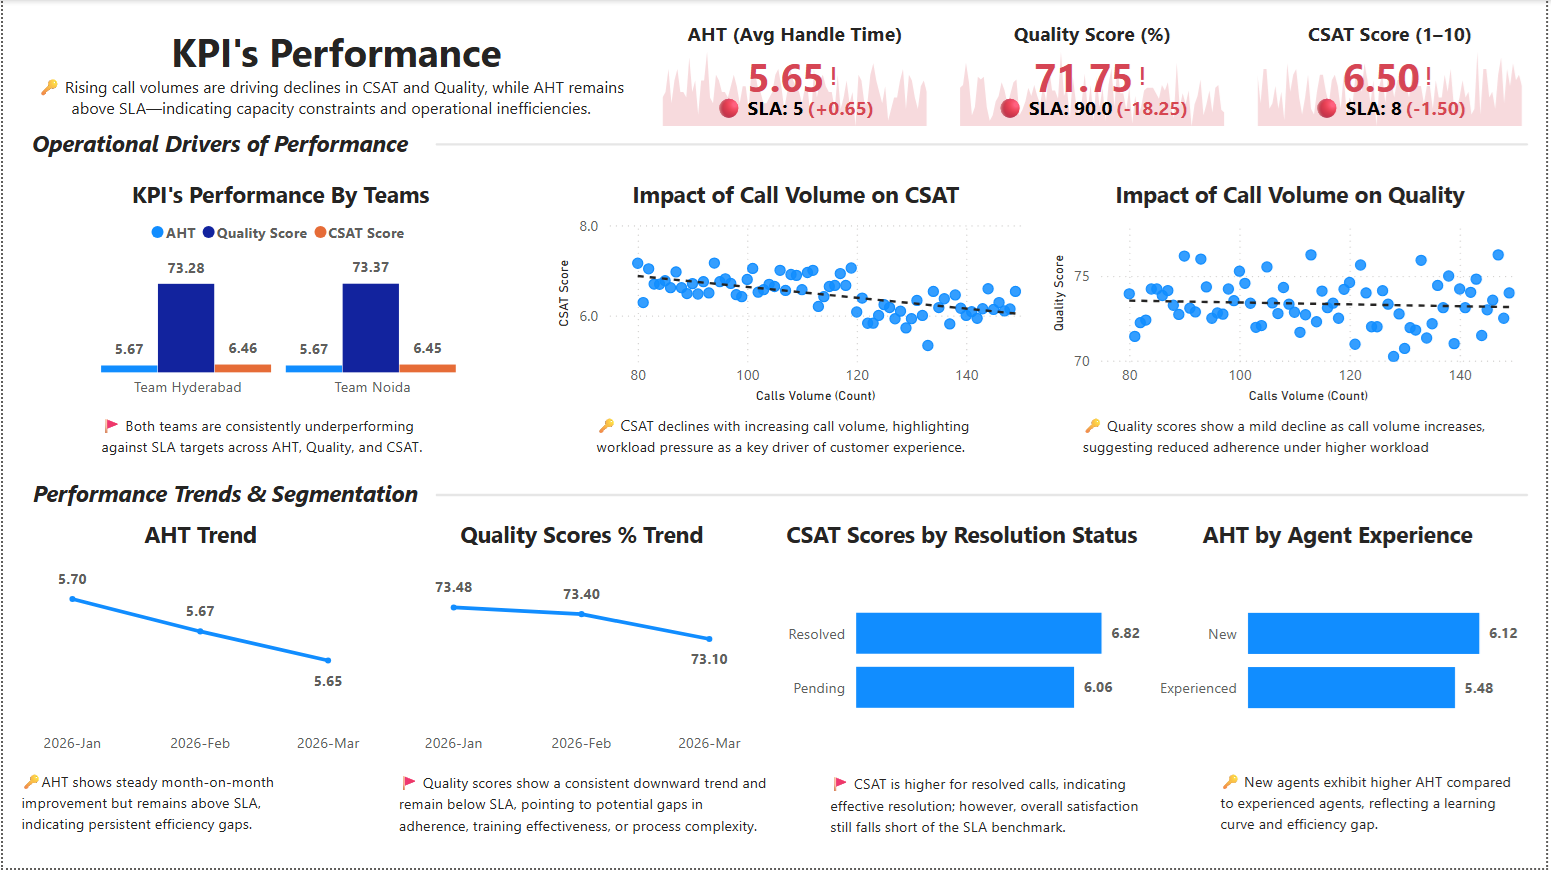

Layout of this report page (visuals, bound fields, positions):
{"tool":"powerbi","page":{"name":"KPI's Performance","canvas":[1280,720],"ordinal":1},"visuals":[{"type":"textbox","box":[10.4,16.6,531.9,58.1],"z":0},{"type":"clusteredColumnChart","title":"KPI''s Performance By Teams","fields":{"Category":["Process_Data.Team"],"Y":["_Measures.Avg AHT","_Measures.Quality Score","_Measures.Avg CSAT"]},"box":[10.4,148.3,439.6,190.8],"z":1000},{"type":"textbox","box":[76.7,338,309,52.9],"z":2000},{"type":"lineChart","title":"AHT Trend","fields":{"Y":["_Measures.Avg AHT"],"Category":["Dim_Date.Year-Month"]},"box":[10.4,430.3,306.9,204.3],"z":3000},{"type":"lineChart","title":"Quality Scores % Trend","fields":{"Category":["Dim_Date.Year-Month"],"Y":["_Measures.Quality Score"]},"box":[326.3,430.3,306.9,204.3],"z":4000},{"type":"textbox","box":[10.4,633.5,250.9,68.4],"z":5000},{"type":"textbox","box":[323.3,634.9,318.6,66.3],"z":6000},{"type":"textbox","box":[681.2,635.6,276.8,65.3],"z":7000},{"type":"kpi","title":"Quality Score (%)","fields":{"TrendLine":["Dim_Date.Date"],"Goal":["_Measures.SLA_Quality"],"Indicator":["_Measures.Quality Score"]},"box":[789.1,16.6,229.2,93.3],"z":8000},{"type":"kpi","title":"CSAT Score (1–10)","fields":{"TrendLine":["Dim_Date.Date"],"Indicator":["_Measures.Avg CSAT"],"Goal":["_Measures.SLA_CSAT"]},"box":[1035.8,16.3,229.3,93.1],"z":9000},{"type":"kpi","title":"AHT (Avg Handle Time)","fields":{"TrendLine":["Dim_Date.Date"],"Indicator":["_Measures.Avg AHT"],"Goal":["_Measures.SLA_AHT"]},"box":[542.3,16.6,229.2,93.3],"z":10000},{"type":"scatterChart","title":"Impact of Call Volume on CSAT","fields":{"Y":["_Measures.Avg CSAT"],"X":["Process_Data.Call_Volume"]},"box":[455.7,148.3,404.4,190.8],"z":11000},{"type":"clusteredBarChart","title":"CSAT Scores by Resolution Status","fields":{"Y":["_Measures.Avg CSAT"],"Category":["Process_Data.Resolution_Status"]},"box":[642.2,430.3,306.9,204.3],"z":12000},{"type":"scatterChart","title":"Impact of Call Volume on Quality","fields":{"X":["Process_Data.Call_Volume"],"Y":["_Measures.Quality Score"]},"box":[865.8,148.3,403.3,190.8],"z":13000},{"type":"textbox","box":[487.3,338,352.5,52.9],"z":14000},{"type":"textbox","box":[890.7,338.1,378.3,52.4],"z":15000},{"type":"clusteredBarChart","title":"AHT by Agent Experience","fields":{"Y":["_Measures.Avg AHT"],"Category":["Process_Data.Agent_Type"]},"box":[948.8,430.2,316.3,204.7],"z":16000},{"type":"textbox","box":[10.4,58.1,523.6,51.8],"z":17000},{"type":"textbox","box":[1004.7,633.7,260.5,68.6],"z":18000},{"type":"shape","box":[358.8,109.9,906.2,19.7],"z":19000},{"type":"textbox","box":[10.4,101.6,339.1,37.3],"z":20000},{"type":"shape","box":[358.8,401.3,906.2,18.7],"z":21000},{"type":"textbox","box":[10.4,391.9,348.4,37.3],"z":22000}]}

Visuals, with their boxes in screenshot pixels (x1, y1, x2, y2), scaled from the page's 1280x720 canvas onto the 1551x873 screenshot:
textbox: {"x1": 13, "y1": 20, "x2": 657, "y2": 91}
"KPI''s Performance By Teams" clusteredColumnChart: {"x1": 13, "y1": 180, "x2": 545, "y2": 411}
textbox: {"x1": 93, "y1": 410, "x2": 467, "y2": 474}
"AHT Trend" lineChart: {"x1": 13, "y1": 522, "x2": 384, "y2": 769}
"Quality Scores % Trend" lineChart: {"x1": 395, "y1": 522, "x2": 767, "y2": 769}
textbox: {"x1": 13, "y1": 768, "x2": 317, "y2": 851}
textbox: {"x1": 392, "y1": 770, "x2": 778, "y2": 850}
textbox: {"x1": 825, "y1": 771, "x2": 1161, "y2": 850}
"Quality Score (%)" kpi: {"x1": 956, "y1": 20, "x2": 1234, "y2": 133}
"CSAT Score (1–10)" kpi: {"x1": 1255, "y1": 20, "x2": 1533, "y2": 133}
"AHT (Avg Handle Time)" kpi: {"x1": 657, "y1": 20, "x2": 935, "y2": 133}
"Impact of Call Volume on CSAT" scatterChart: {"x1": 552, "y1": 180, "x2": 1042, "y2": 411}
"CSAT Scores by Resolution Status" clusteredBarChart: {"x1": 778, "y1": 522, "x2": 1150, "y2": 769}
"Impact of Call Volume on Quality" scatterChart: {"x1": 1049, "y1": 180, "x2": 1538, "y2": 411}
textbox: {"x1": 590, "y1": 410, "x2": 1018, "y2": 474}
textbox: {"x1": 1079, "y1": 410, "x2": 1538, "y2": 473}
"AHT by Agent Experience" clusteredBarChart: {"x1": 1150, "y1": 522, "x2": 1533, "y2": 770}
textbox: {"x1": 13, "y1": 70, "x2": 647, "y2": 133}
textbox: {"x1": 1217, "y1": 768, "x2": 1533, "y2": 852}
shape: {"x1": 435, "y1": 133, "x2": 1533, "y2": 157}
textbox: {"x1": 13, "y1": 123, "x2": 423, "y2": 168}
shape: {"x1": 435, "y1": 487, "x2": 1533, "y2": 509}
textbox: {"x1": 13, "y1": 475, "x2": 435, "y2": 520}
